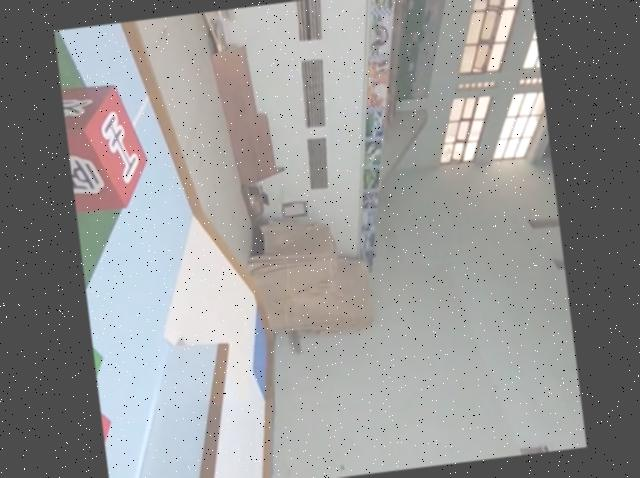R2 Fake: (61, 74, 155, 215)
